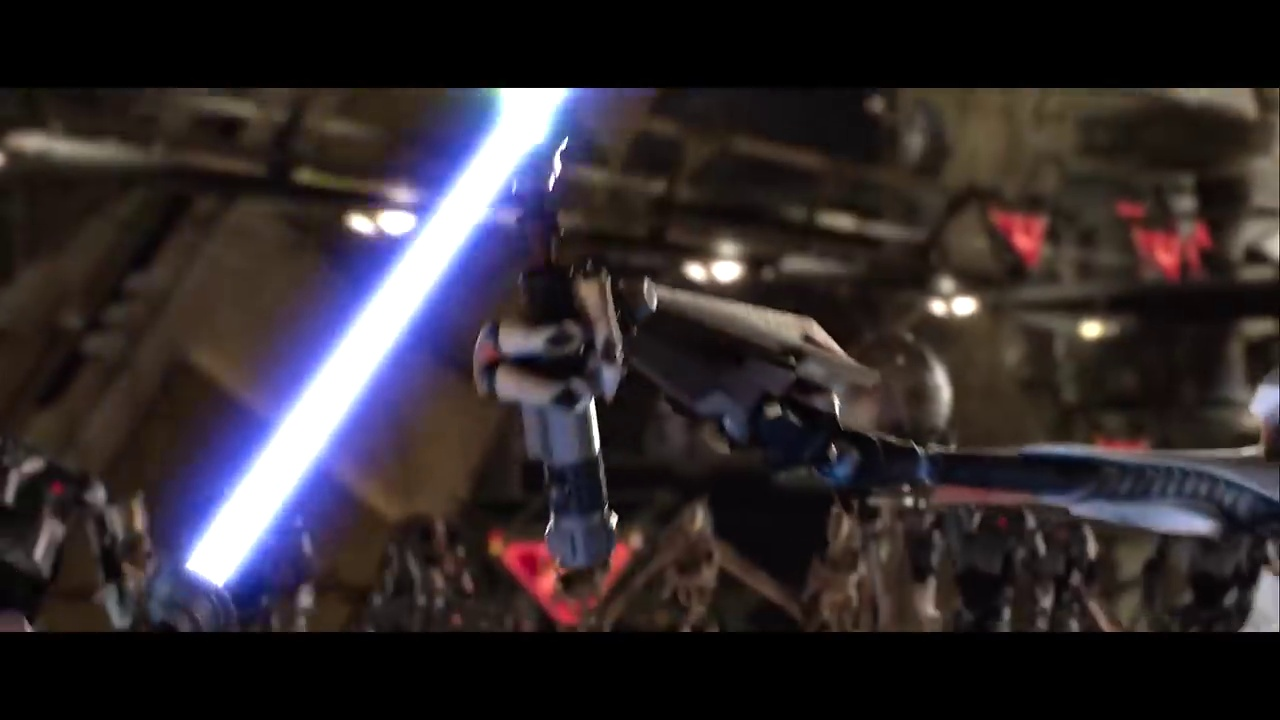lightsaber: (180, 85, 593, 588)
